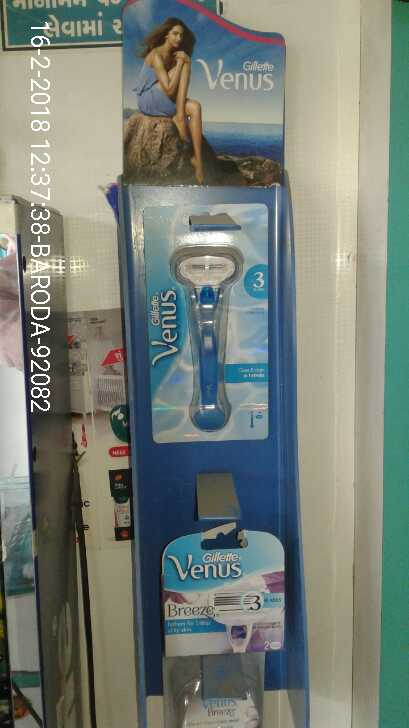venus: (136, 194, 281, 448), (153, 520, 292, 667)
